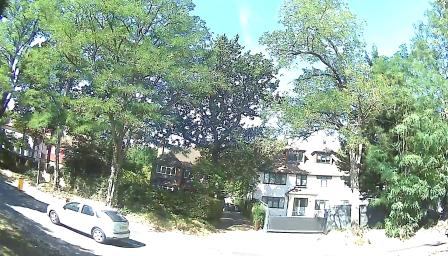Cars: (49, 198, 132, 241)
